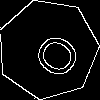O: (23, 24, 84, 83)
